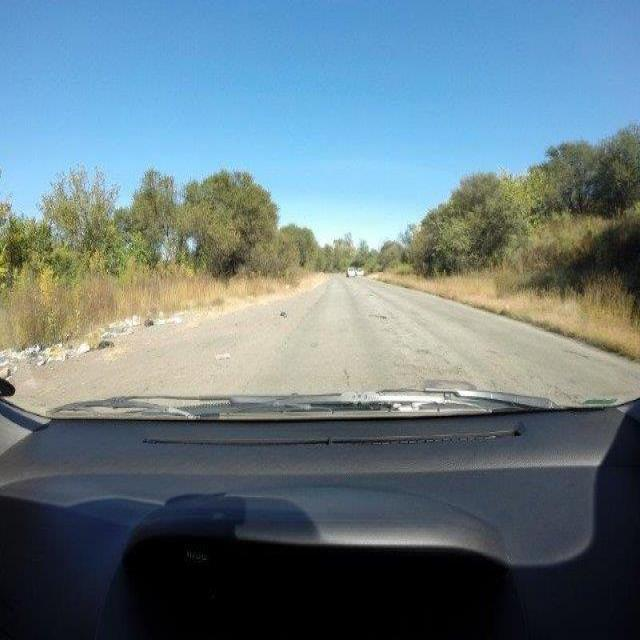lubang: (398, 361, 478, 397), (364, 307, 394, 327)
